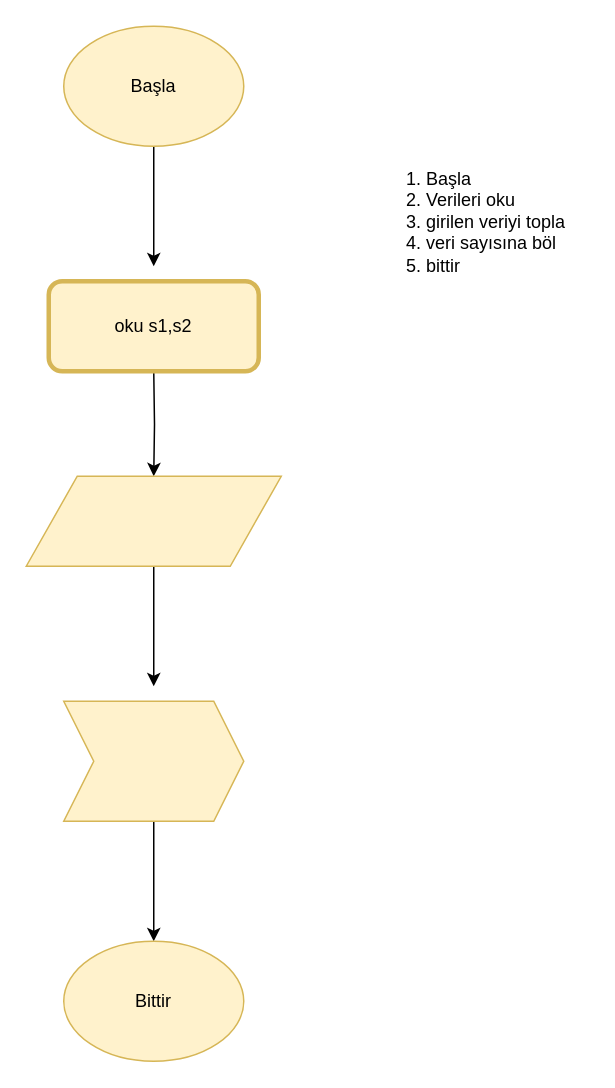
Image size: 615x1088. Some labels were removed from this diagram. Here are the shapes that lost their labels. From the top down, the centre of each, then its label:
At (153,520): "Toplam= s1+s2".
At (153,760): "Ort=Toplam/2".
